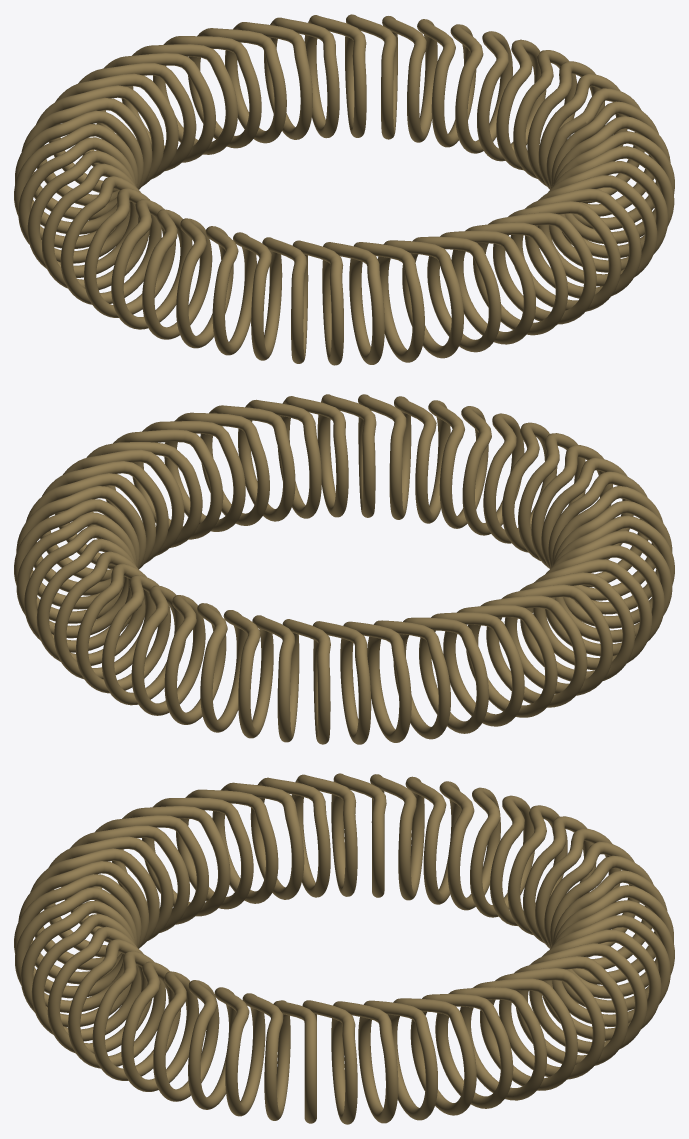
The picture shows the model from 3 angles, top to bottom: view 1: azimuth 30°, elevation 25°; view 2: azimuth 150°, elevation 25°; view 3: azimuth 270°, elevation 25°; orthographic projection.
Visible parts, largest first — view 1: strangeCircle:aaaa:ZBrush_defualt_group; view 2: strangeCircle:aaaa:ZBrush_defualt_group; view 3: strangeCircle:aaaa:ZBrush_defualt_group.
Boxes of the visible parts, box(x1,y1,x2,y2) form: strangeCircle:aaaa:ZBrush_defualt_group: box(14, 14, 674, 365); strangeCircle:aaaa:ZBrush_defualt_group: box(14, 394, 674, 744); strangeCircle:aaaa:ZBrush_defualt_group: box(14, 773, 674, 1124).
Size of the model in its own units: 17.07 by 3.2 by 17.06.
